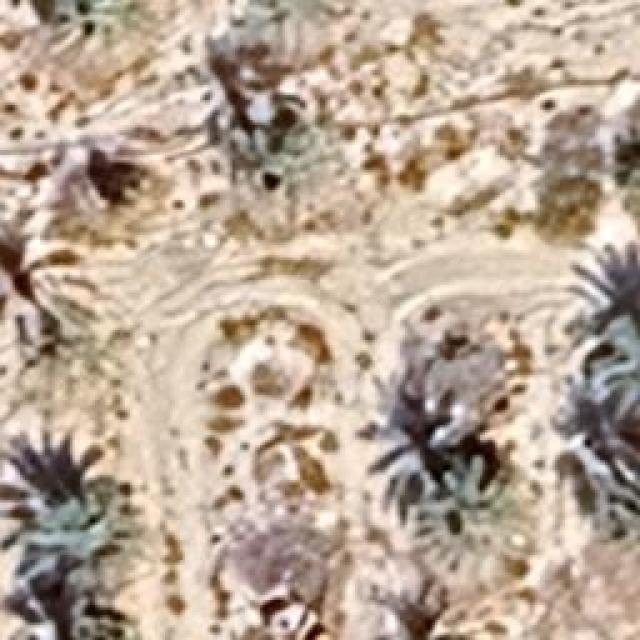PalmTree: (60, 25, 608, 494), (3, 286, 128, 426), (365, 336, 480, 479), (0, 441, 132, 556), (0, 220, 99, 353), (209, 94, 326, 200), (417, 315, 528, 422), (411, 471, 521, 571), (367, 572, 495, 640), (14, 567, 124, 640), (592, 264, 640, 426), (244, 0, 356, 52), (370, 601, 495, 640), (609, 116, 640, 232)
